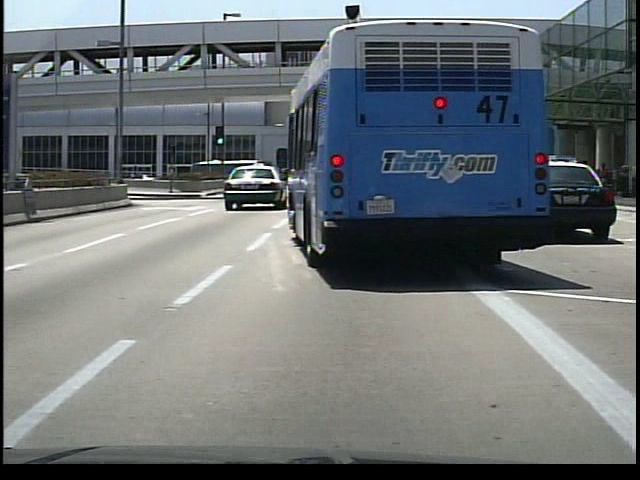person: (596, 163, 609, 200)
